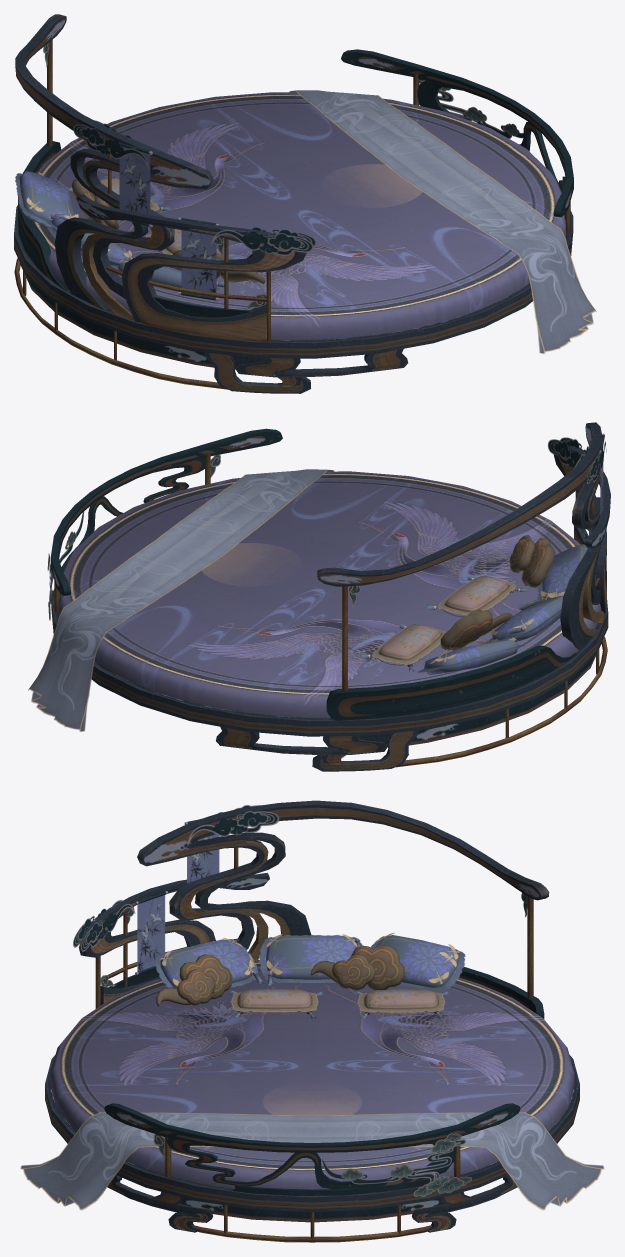
The model's file is furniture-20778.glb.
The picture shows the model from 3 angles, top to bottom: view 1: azimuth 30°, elevation 25°; view 2: azimuth 150°, elevation 25°; view 3: azimuth 270°, elevation 25°; orthographic projection. The views are drawn at different scales.
Size of the model in its own units: 3.45 by 1.58 by 3.85.
2 materials, 2 textured.
